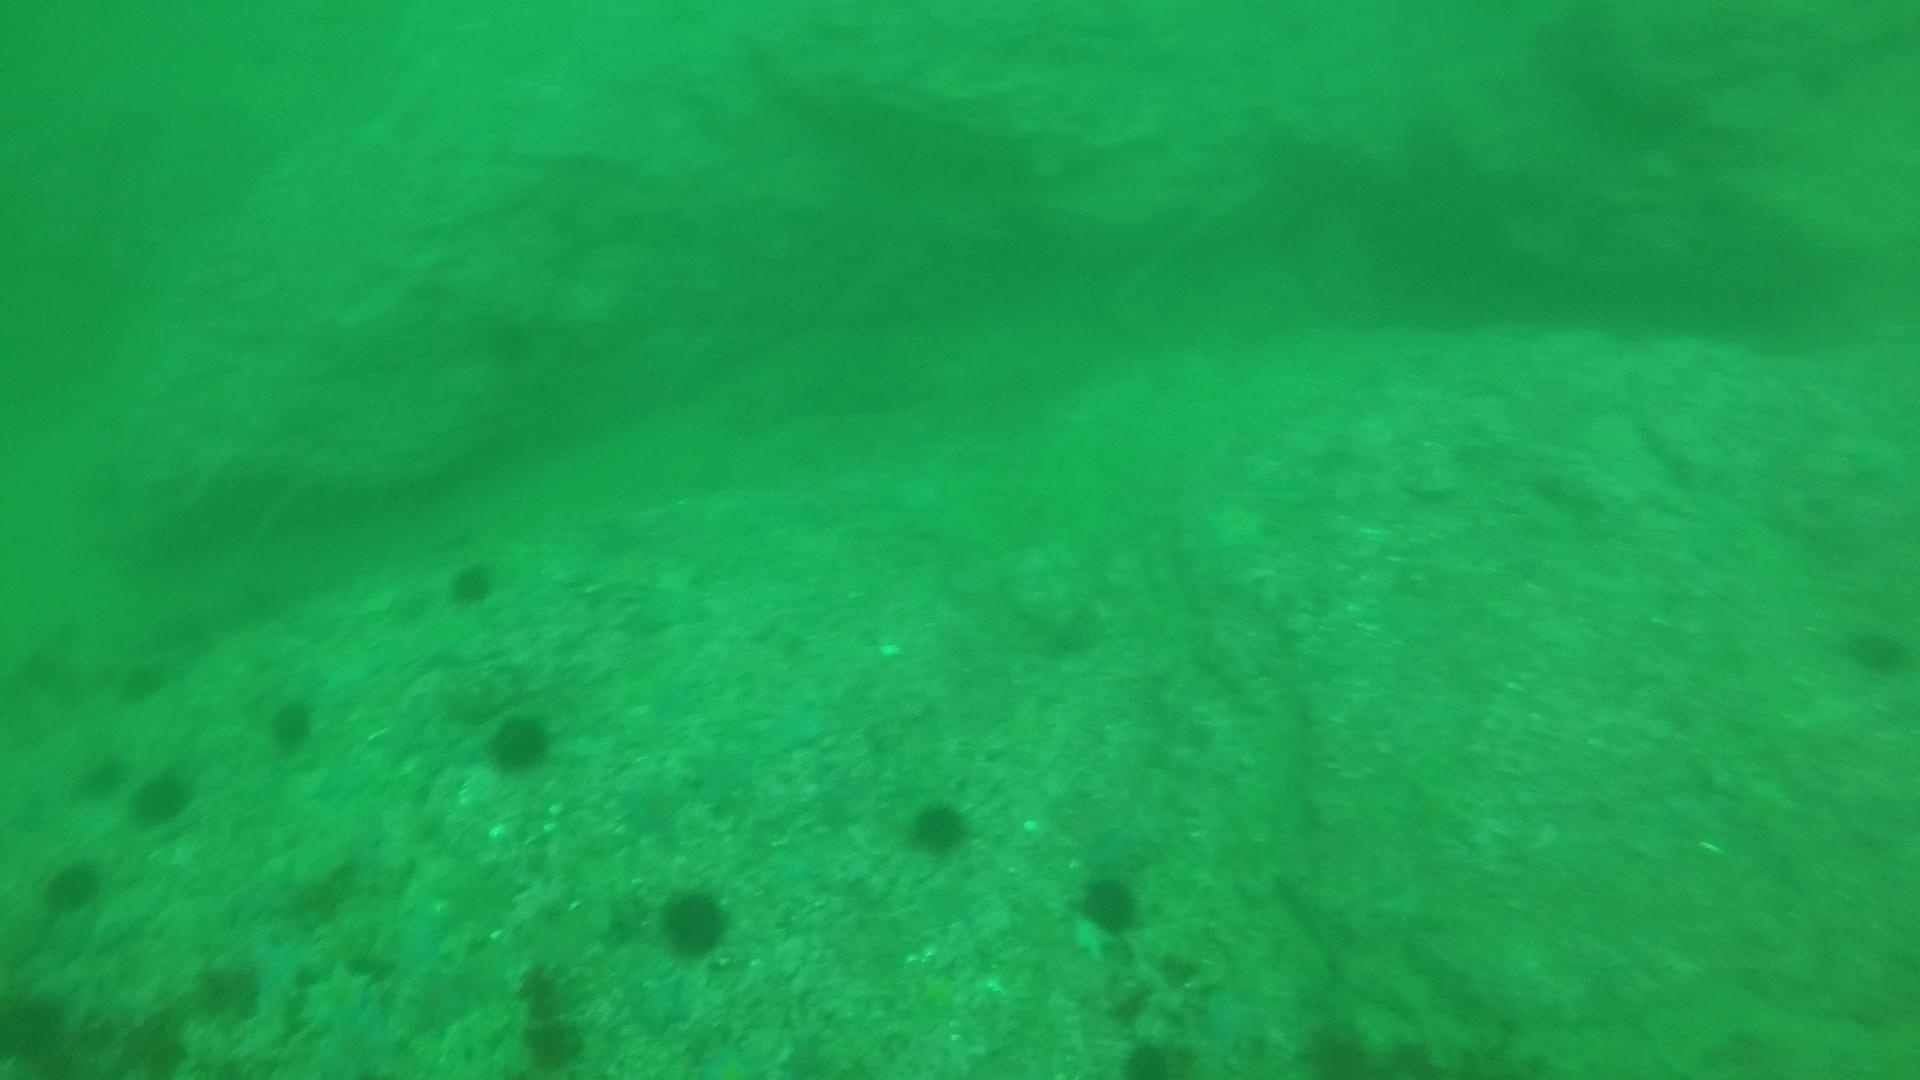echinus: (651, 880, 737, 965), (1, 980, 76, 1073), (477, 705, 562, 781), (1069, 865, 1149, 942), (1106, 1004, 1185, 1080), (898, 791, 978, 862), (510, 1000, 588, 1069), (509, 949, 587, 1019), (1294, 1015, 1377, 1079), (124, 761, 199, 831), (1837, 616, 1916, 682), (36, 852, 109, 918), (260, 690, 323, 760), (69, 746, 131, 806), (440, 553, 502, 611), (111, 651, 171, 708)
starfish: (287, 956, 414, 1076), (607, 756, 694, 844), (676, 733, 767, 818), (621, 558, 717, 637)
